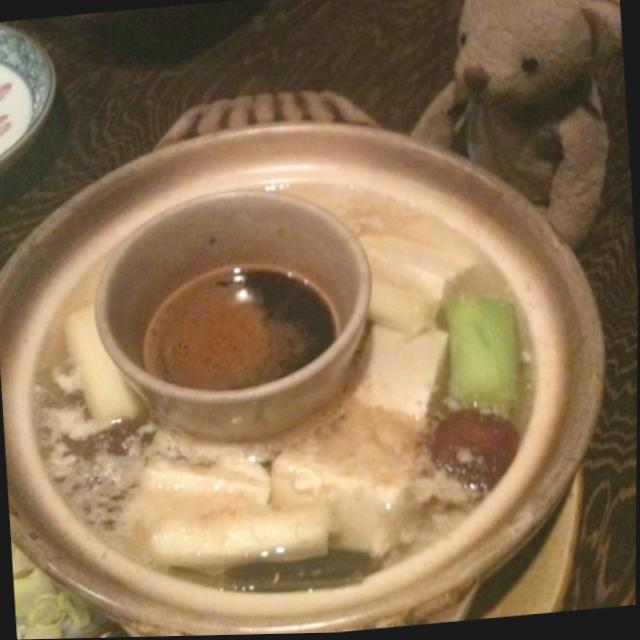豆腐料理: (0, 96, 615, 637)
